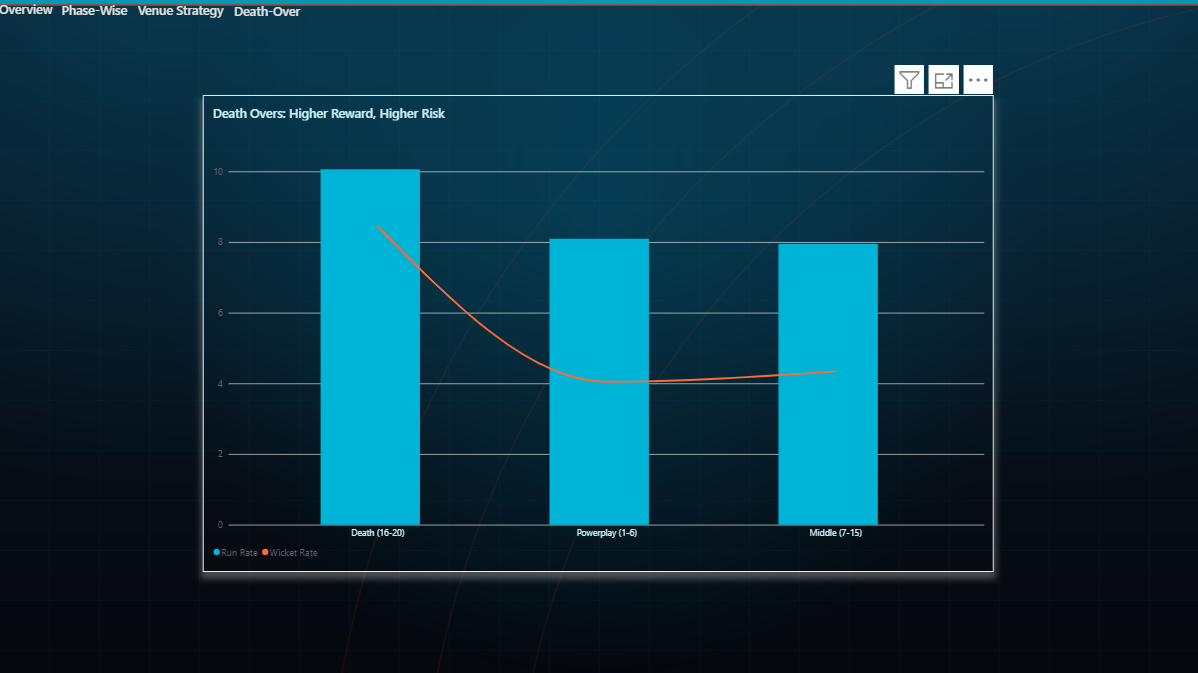

The page's visual inventory and layout, read from the dashboard file:
{"tool":"powerbi","page":{"name":"Phase-Wise Risk vs Reward","canvas":[1920,1080],"ordinal":1},"visuals":[{"type":"image","box":[0,0,1920,1080],"z":0},{"type":"lineClusteredColumnComboChart","title":"Death Overs: Higher Reward, Higher Risk","fields":{"Category":["public deliveries.Phase"],"Y":["public deliveries.Run Rate"],"Y2":["public deliveries.Wicket Rate"]},"box":[325.7,152,1266.8,761.9],"z":1000},{"type":"actionButton","title":"Overview","box":[0,0,100,30],"z":2000},{"type":"actionButton","title":"Phase-Wise","box":[99.5,1.8,119.4,29],"z":2001},{"type":"actionButton","title":"Venue Strategy","box":[222.6,1.8,153.8,30.8],"z":2002},{"type":"actionButton","title":"Death-Over Bowlers","box":[376.4,3.6,117.6,30.8],"z":2003}]}

Visuals, with their boxes on the page's 1920x1080 design canvas (x1, y1, x2, y2). These are canvas units, not pixel positions in the 1198x673 screenshot, which may show the page scaled, cropped or inside an application window:
image: rect(0, 0, 1920, 1080)
"Death Overs: Higher Reward, Higher Risk" lineClusteredColumnComboChart: rect(326, 152, 1592, 914)
"Overview" actionButton: rect(0, 0, 100, 30)
"Phase-Wise" actionButton: rect(100, 2, 219, 31)
"Venue Strategy" actionButton: rect(223, 2, 376, 33)
"Death-Over Bowlers" actionButton: rect(376, 4, 494, 34)
